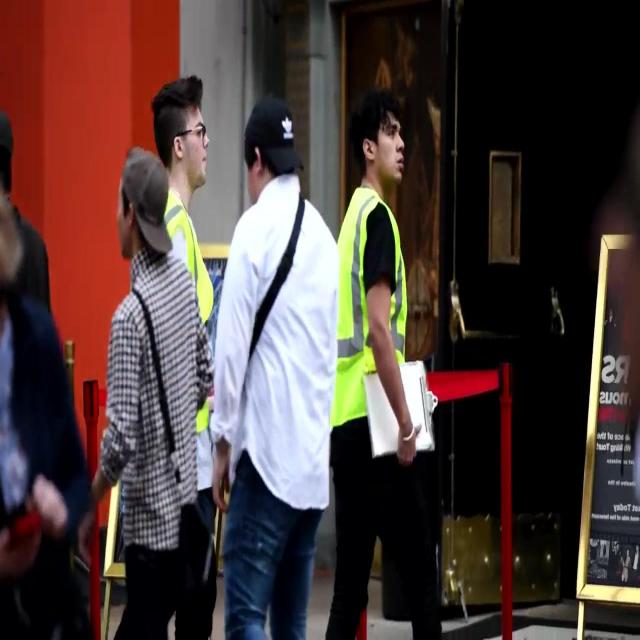Reflective-Jacket: (324, 180, 420, 444)
